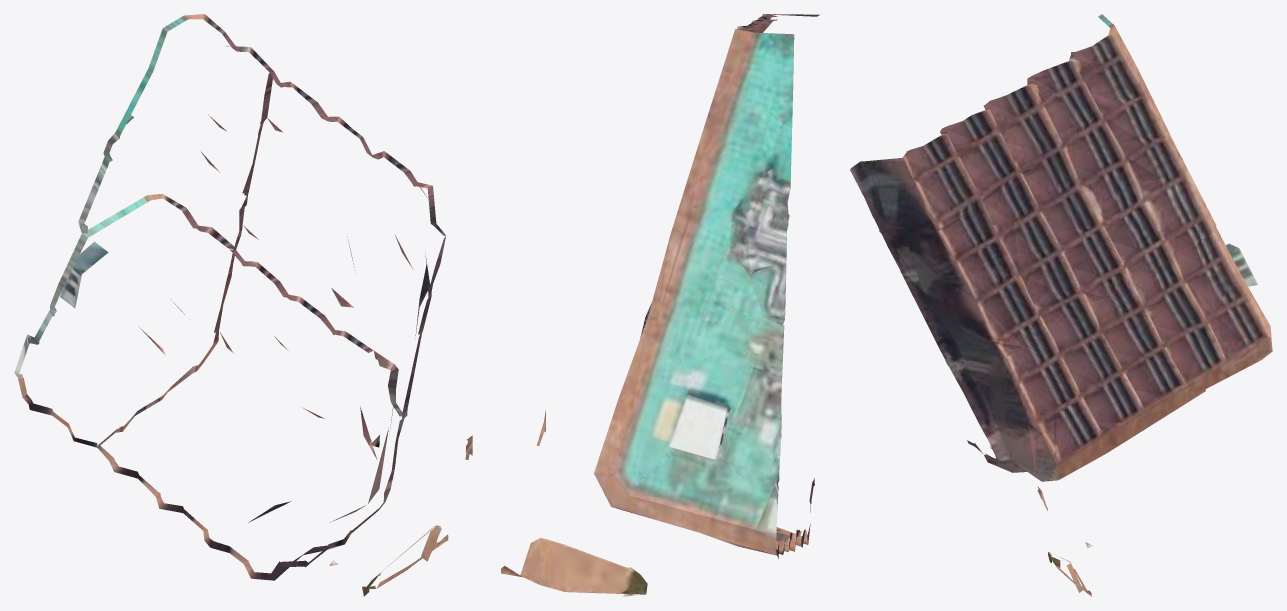
The model's file is AJVsH2yZlyoQJFZrBy7jfYH4z-Bi6mxqKwh8Vycn3t3UjFq2fs6voqRh84x9KE-jf93M9N8dAIMsBbbh7oYZwkx3fft2u1Taa4VnWGOfUHNQobb-edrCa_RkS3WrD8gEujkwrWA0-TLyHZ8_3YOuOxe4VsL8.glb.
3 views of the same model, side by side, from view 1: azimuth 30°, elevation 25°; view 2: azimuth 150°, elevation 25°; view 3: azimuth 270°, elevation 25° (orthographic). The views are drawn at different scales.
Size of the model in its own units: 27.72 by 45.2 by 35.84.
Materials: 1 (1 with a texture image).
